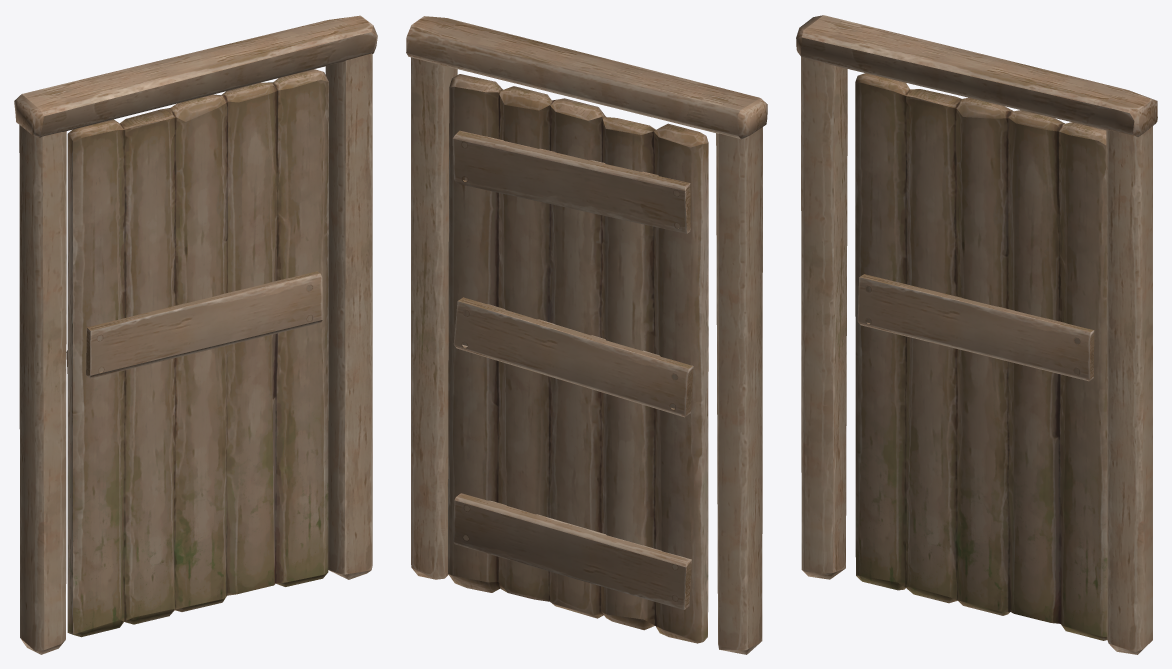
Rendered from Door_01.fbx.
3 views of the same model, side by side, from view 1: azimuth 30°, elevation 25°; view 2: azimuth 150°, elevation 25°; view 3: azimuth 330°, elevation 25° (orthographic).
Parts seen in each view (by area): view 1: Door, Frame; view 2: Door, Frame; view 3: Door, Frame.
Part boxes in pixels (x1=…): Door: x1=66, y1=69, x2=328, y2=637; Frame: x1=14, y1=15, x2=377, y2=654; Door: x1=448, y1=74, x2=708, y2=643; Frame: x1=406, y1=16, x2=767, y2=654; Door: x1=855, y1=73, x2=1107, y2=640; Frame: x1=796, y1=15, x2=1157, y2=654.
Bounding box in the file's own units: 1.19 × 1.83 × 0.1892.
